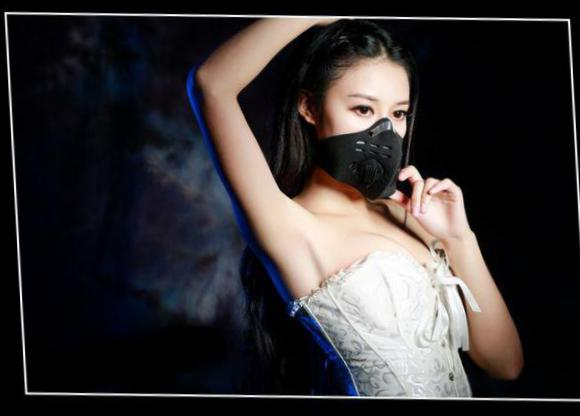WRONG: (312, 88, 416, 192)
